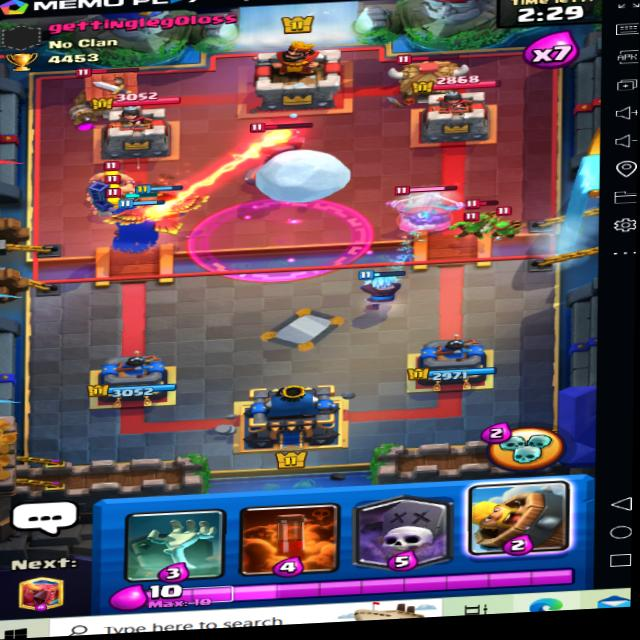barbarian: (90, 182, 137, 213), (83, 166, 136, 193)
barbarian-hut: (70, 61, 146, 126)
goblin-hut: (390, 47, 471, 105)
inferno-tower: (238, 117, 322, 190)
mirror: (258, 295, 347, 359)
snowball: (253, 142, 357, 205)
spear-goblin: (484, 217, 524, 241), (458, 214, 488, 239), (468, 197, 497, 220)
x-bow: (382, 174, 471, 232)
